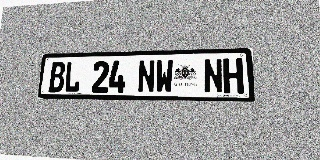2: (92, 61, 109, 93)
4: (108, 60, 126, 93)
B: (48, 62, 66, 92)
H: (223, 58, 244, 94)
L: (64, 61, 81, 92)
N: (203, 58, 223, 93), (137, 60, 155, 93)
W: (155, 59, 173, 93)
